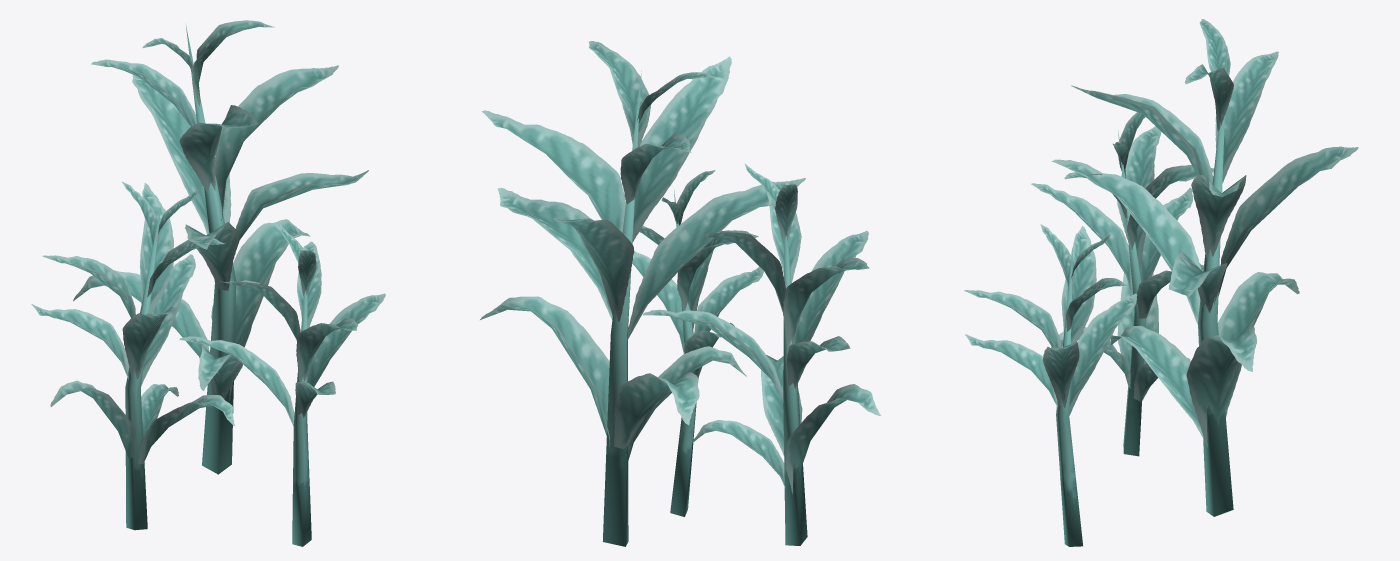
The model's file is SM_ENV_plant_ancient_02_02.fbx.
3 renders of one model, left to right at view 1: azimuth 30°, elevation 25°; view 2: azimuth 150°, elevation 25°; view 3: azimuth 270°, elevation 25°, orthographic. The views are drawn at different scales.
Visible parts, largest first — view 1: SM_ENV_plant_ancient_02_02_LOD0; view 2: SM_ENV_plant_ancient_02_02_LOD0; view 3: SM_ENV_plant_ancient_02_02_LOD0.
Part boxes in pixels (x1,y1,x2,y2): SM_ENV_plant_ancient_02_02_LOD0: (31, 20, 385, 546); SM_ENV_plant_ancient_02_02_LOD0: (480, 41, 880, 546); SM_ENV_plant_ancient_02_02_LOD0: (964, 19, 1358, 546).
Size of the model in its own units: 32.74 by 38.96 by 32.16.
